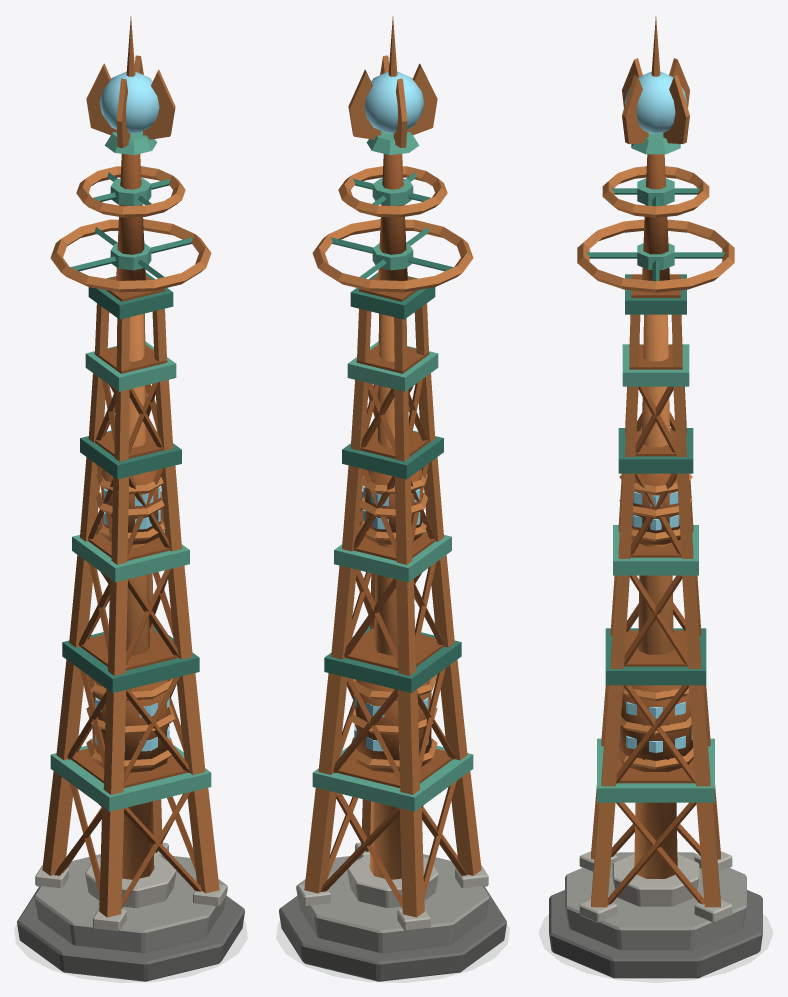
The model's file is rodspire.glb.
3 renders of one model, left to right at view 1: azimuth 30°, elevation 25°; view 2: azimuth 150°, elevation 25°; view 3: azimuth 270°, elevation 25°, orthographic.
Parts seen in each view (by area): view 1: rodspire; view 2: rodspire; view 3: rodspire.
Part boxes in pixels (<box>): rodspire: <box>17,16,244,981</box>; rodspire: <box>279,16,506,981</box>; rodspire: <box>549,16,762,978</box>.
Size of the model in its own units: 3 by 12.97 by 3.
